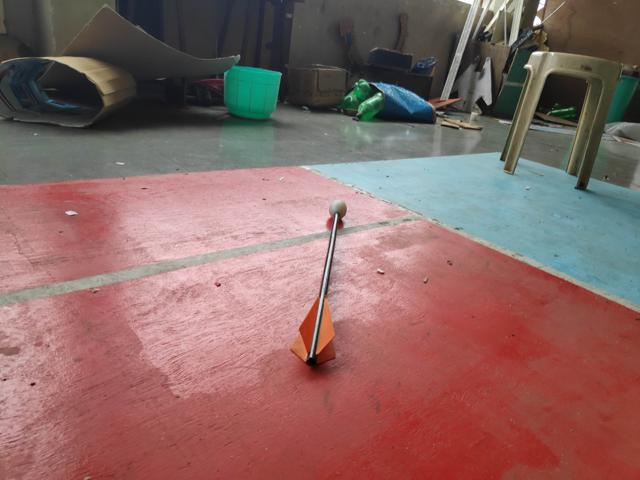Head: (327, 197, 351, 220)
Tail: (286, 293, 342, 369)
